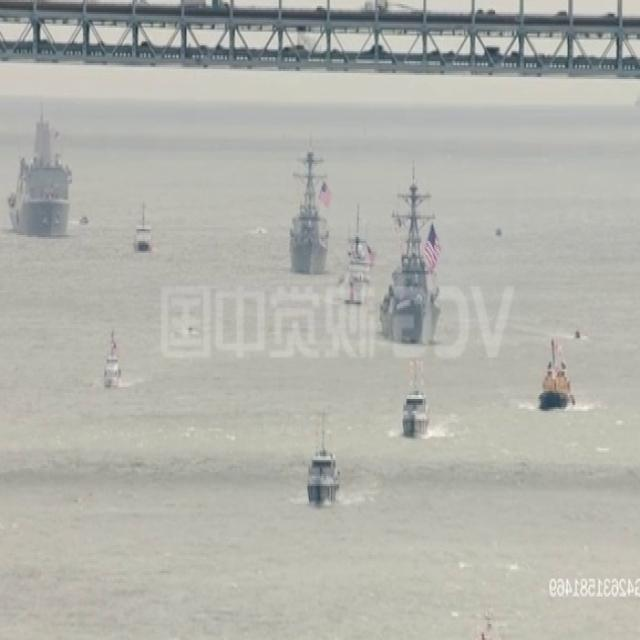houseboat: (304, 408, 340, 509), (540, 335, 577, 411), (402, 358, 434, 436), (99, 332, 121, 392), (472, 614, 512, 640), (134, 203, 152, 252), (571, 325, 582, 346), (77, 212, 89, 228), (494, 225, 505, 240)
navalvessels: (380, 164, 448, 340), (4, 108, 72, 242), (283, 150, 334, 274)
